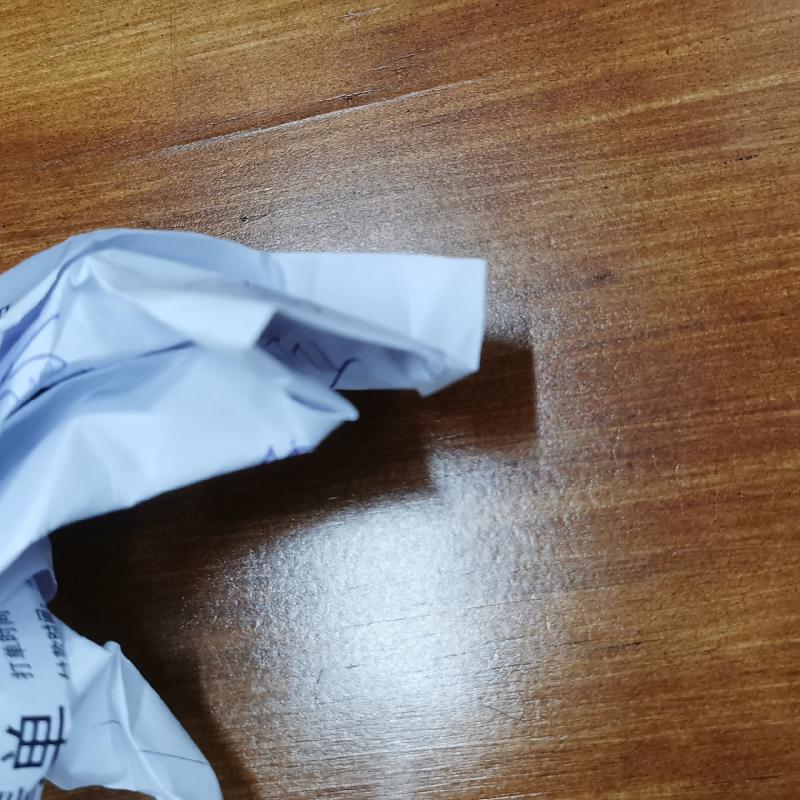spitball: (3, 224, 496, 800)
